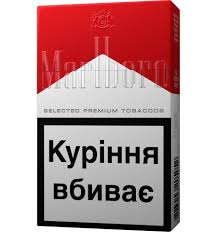marlboro: (37, 6, 170, 226)
